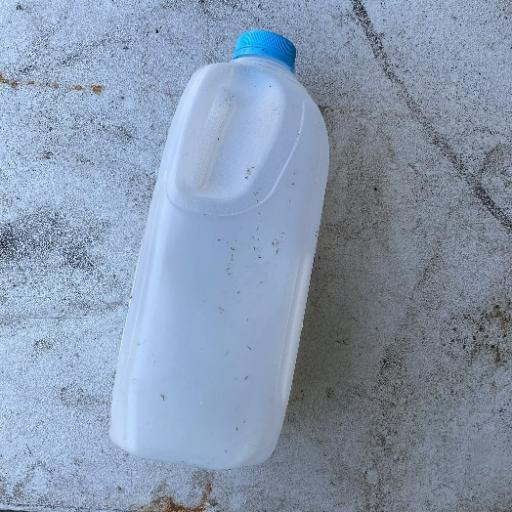Plastic: (106, 28, 332, 471)
